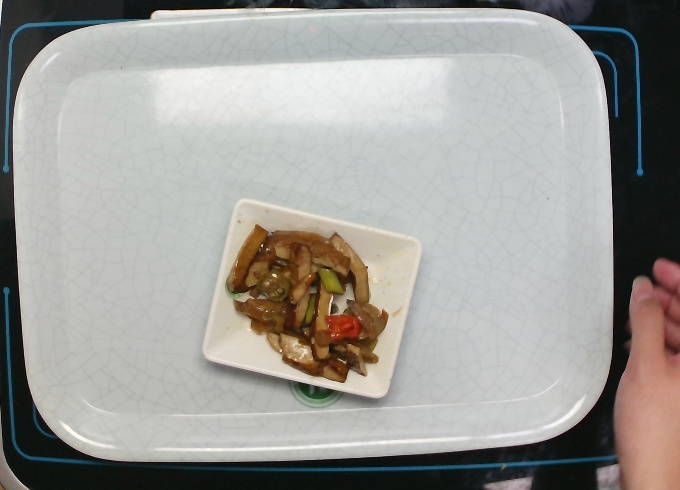WCQzf-Bai_Se_Si_Fang_Die: (196, 194, 427, 404)
